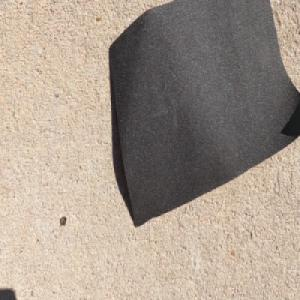PaintChip: (107, 0, 300, 230)
